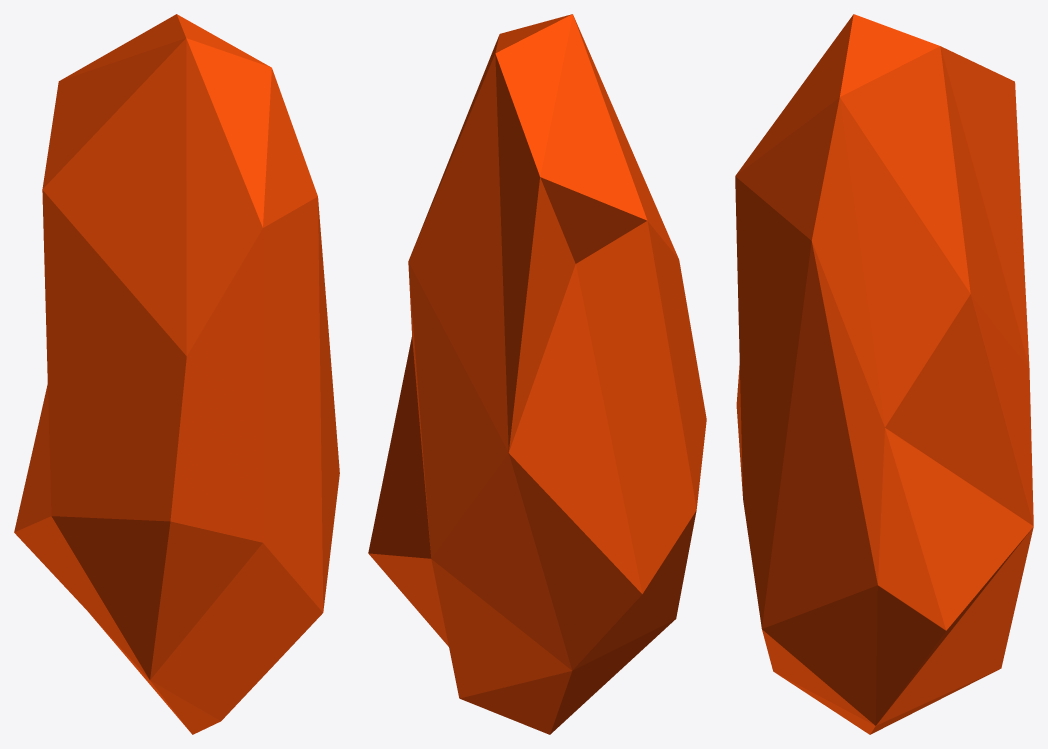
The model's file is Crystal_042.fbx.
3 renders of one model, left to right at view 1: azimuth 30°, elevation 25°; view 2: azimuth 150°, elevation 25°; view 3: azimuth 270°, elevation 25°, orthographic.
Parts seen in each view (by area): view 1: Crystal.042; view 2: Crystal.042; view 3: Crystal.042.
Boxes of the visible parts, x1,y1,x2,y2 form: Crystal.042: (14,14,339,734); Crystal.042: (368,14,706,734); Crystal.042: (735,14,1033,734).
Size of the model in its own units: 223 by 512 by 194.
